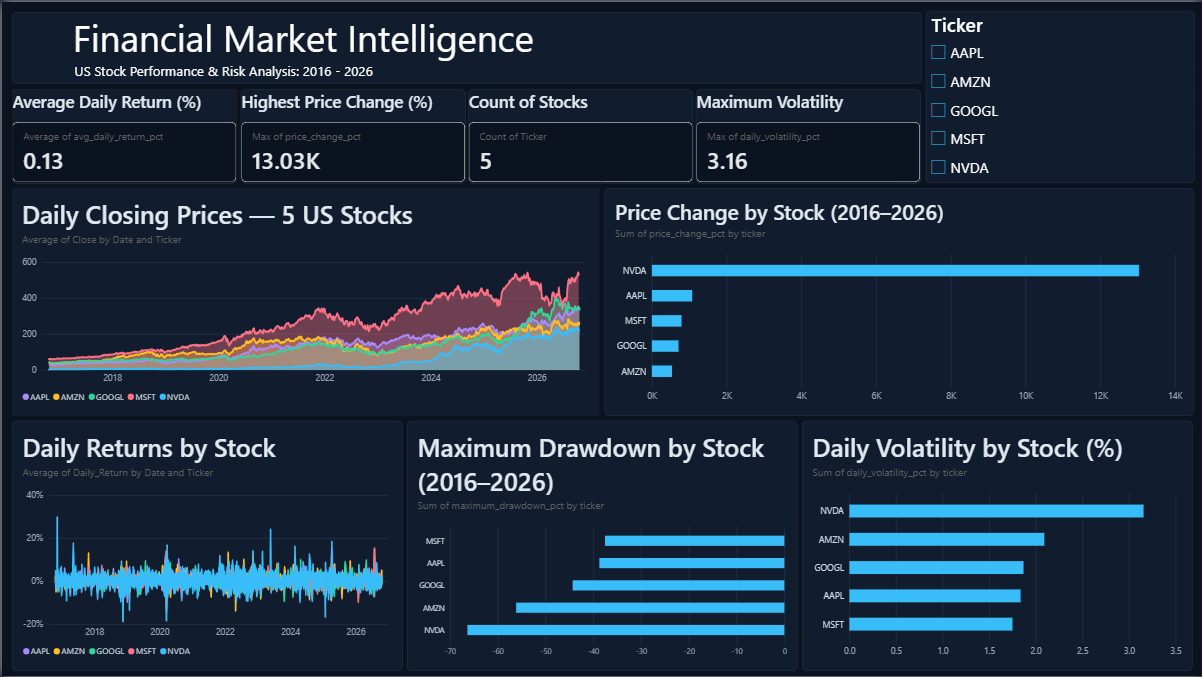

The page's visual inventory and layout, read from the dashboard file:
{"tool":"powerbi","page":{"name":"Page 1","canvas":[1920,1080],"ordinal":0},"visuals":[{"type":"lineChart","title":"Daily Closing Prices — 5 US Stocks","fields":{"Category":["stock_market_master.Date"],"Series":["stock_market_master.Ticker"],"Y":["Avg(stock_market_master.Close)"]},"box":[16,298,940,364],"z":0},{"type":"cardVisual","title":"Highest Price Change (%)","fields":{"Data":["Max(stock_summary.price_change_pct)"]},"box":[382,140,360,150],"z":1000},{"type":"slicer","title":"Daily Volatility by Stock (%)","fields":{"Values":["stock_market_master.Ticker"]},"box":[1477.5,13,430,275],"z":2000},{"type":"lineChart","title":"Daily Returns by Stock","fields":{"Category":["stock_market_master.Date"],"Series":["stock_market_master.Ticker"],"Y":["Avg(stock_market_master.Daily_Return)"]},"box":[15,670,625,400],"z":3000},{"type":"clusteredBarChart","title":"Price Change by Stock (2016–2026)","fields":{"Category":["stock_summary.ticker"],"Y":["Sum(stock_summary.price_change_pct)"]},"box":[964,298,942,364],"z":4000},{"type":"clusteredBarChart","title":"Maximum Drawdown by Stock (2016–2026)","fields":{"Category":["stock_summary.ticker"],"Y":["Sum(stock_summary.maximum_drawdown_pct)"]},"box":[647,670,625,400],"z":5000},{"type":"clusteredBarChart","title":"Daily Volatility by Stock (%)","fields":{"Category":["stock_summary.ticker"],"Y":["Sum(stock_summary.daily_volatility_pct)"]},"box":[1280,670,625,400],"z":6000},{"type":"cardVisual","title":"Average Daily Return (%)","fields":{"Data":["Avg(stock_summary.avg_daily_return_pct)"]},"box":[16,140,360,150],"z":7000},{"type":"cardVisual","title":"Count of Stocks","fields":{"Data":["Count(stock_market_master.Ticker)"]},"box":[746,140,360,150],"z":8000},{"type":"cardVisual","title":"Maximum Volatility","fields":{"Data":["Max(stock_summary.daily_volatility_pct)"]},"box":[1110,140,360,150],"z":9000},{"type":"textbox","box":[15,15,1455,114],"z":10000}]}

Visuals, with their boxes in screenshot pixels (x1, y1, x2, y2), scaled from the page's 1920x1080 canvas onto the 1202x677 screenshot:
"Daily Closing Prices — 5 US Stocks" lineChart: box(10, 187, 598, 415)
"Highest Price Change (%)" cardVisual: box(239, 88, 465, 182)
"Daily Volatility by Stock (%)" slicer: box(925, 8, 1194, 181)
"Daily Returns by Stock" lineChart: box(9, 420, 401, 671)
"Price Change by Stock (2016–2026)" clusteredBarChart: box(604, 187, 1193, 415)
"Maximum Drawdown by Stock (2016–2026)" clusteredBarChart: box(405, 420, 796, 671)
"Daily Volatility by Stock (%)" clusteredBarChart: box(801, 420, 1193, 671)
"Average Daily Return (%)" cardVisual: box(10, 88, 235, 182)
"Count of Stocks" cardVisual: box(467, 88, 692, 182)
"Maximum Volatility" cardVisual: box(695, 88, 920, 182)
textbox: box(9, 9, 920, 81)
